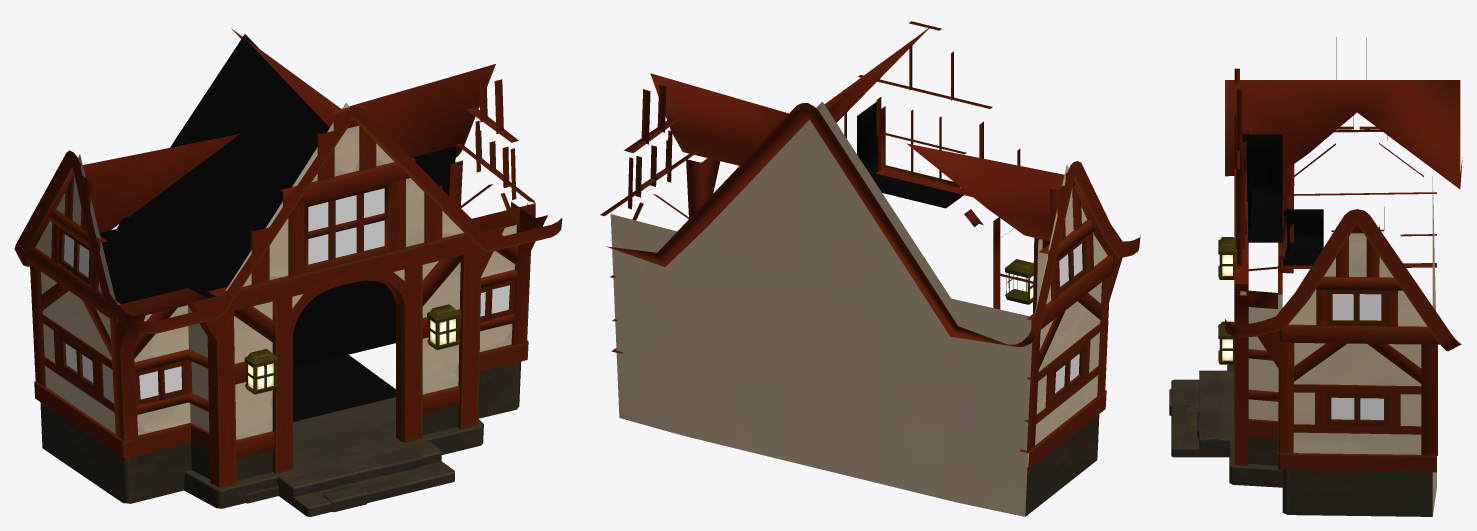
Rendered from chalet-wall-c.glb.
3 renders of one model, left to right at view 1: azimuth 30°, elevation 25°; view 2: azimuth 150°, elevation 25°; view 3: azimuth 270°, elevation 25°, orthographic. The views are drawn at different scales.
Parts seen in each view (by area): view 1: Brick00__mWallA, Wood00_low__mWallB, BrickBack__mHouseInner, WindowGlass00__mWindowGlass, LampDownL__mLamp, SideWindow01__mSideWindow; view 2: Brick00__mWallA, Wood00_low__mWallB, HouseInnerL__mHouseInner, SideWindow01__mSideWindow, LampDownL__mLamp; view 3: Brick00__mWallA, Wood00_low__mWallB, HouseInnerL__mHouseInner, SideWindow01__mSideWindow, LampDownL__mLamp, CL__mCurtain.
Boxes of the visible parts, box(x1,y1,x2,y2) form: Brick00__mWallA: box(14, 28, 562, 516); Wood00_low__mWallB: box(25, 76, 547, 487); BrickBack__mHouseInner: box(99, 34, 455, 421); WindowGlass00__mWindowGlass: box(139, 188, 509, 399); LampDownL__mLamp: box(244, 304, 460, 394); SideWindow01__mSideWindow: box(64, 234, 93, 382); Brick00__mWallA: box(606, 28, 1140, 516); Wood00_low__mWallB: box(600, 21, 1122, 469); HouseInnerL__mHouseInner: box(857, 102, 966, 208); SideWindow01__mSideWindow: box(1055, 243, 1082, 393); LampDownL__mLamp: box(1005, 259, 1033, 304); Brick00__mWallA: box(1169, 80, 1462, 516); Wood00_low__mWallB: box(1234, 37, 1439, 472); HouseInnerL__mHouseInner: box(1242, 134, 1323, 265); SideWindow01__mSideWindow: box(1331, 294, 1383, 419); LampDownL__mLamp: box(1218, 237, 1234, 364); CL__mCurtain: box(1248, 132, 1289, 261).
Size of the model in its own units: 48.63 by 39.51 by 29.5.
7 materials, 3 textured.
